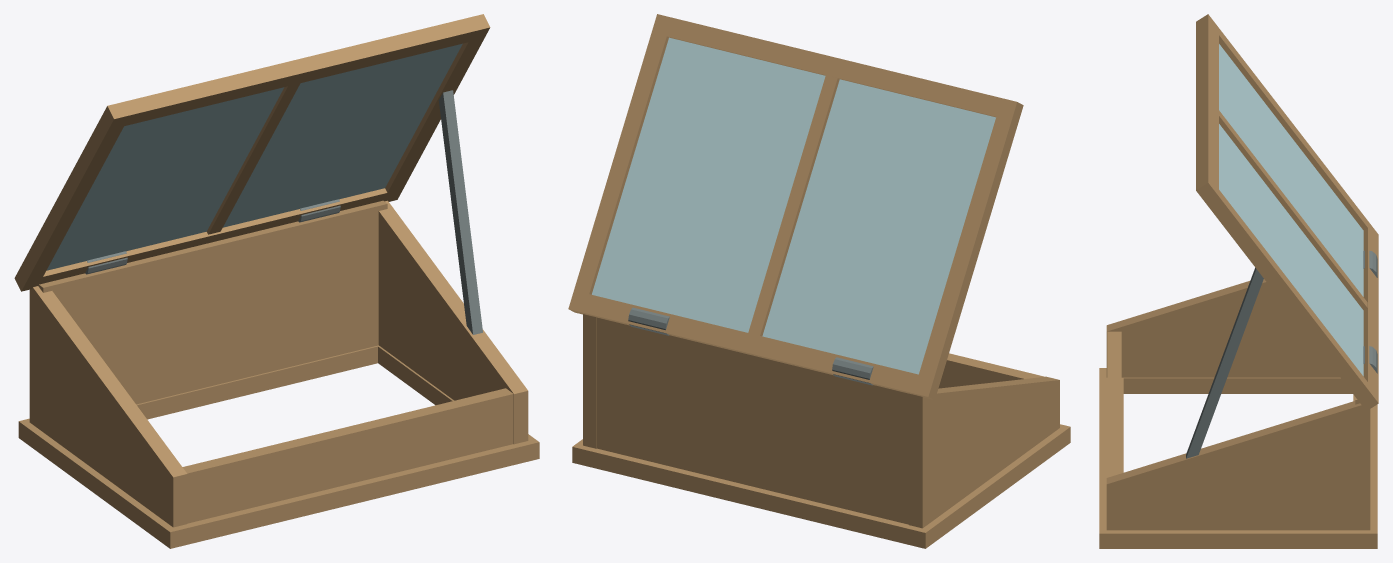
3 views of the same model, side by side, from view 1: azimuth 30°, elevation 25°; view 2: azimuth 150°, elevation 25°; view 3: azimuth 270°, elevation 25° (orthographic). The views are drawn at different scales.
Parts seen in each view (by area): view 1: RearWholeWall, WholeOpenCentreRaisedSashFrame, RightWholeOpaqueGlassLookPane, LeftWholeOpaqueGlassLookPane, FrontWholeWall, LeftWholeWedgeSide, WholeOpenCentreGroundFooting, RightWholeWedgeSide, WholeFixedSashStay, WholeSashCentreMullion; view 2: RightWholeOpaqueGlassLookPane, LeftWholeOpaqueGlassLookPane, RearWholeWall, WholeOpenCentreRaisedSashFrame, LeftWholeWedgeSide, WholeOpenCentreGroundFooting, WholeSashCentreMullion, FrontWholeWall, RightWholeWedgeSide, RightWholeFixedBarrelBracket, LeftWholeFixedBarrelBracket; view 3: RightWholeWedgeSide, LeftWholeWedgeSide, WholeOpenCentreRaisedSashFrame, WholeOpenCentreGroundFooting, LeftWholeOpaqueGlassLookPane, RightWholeOpaqueGlassLookPane, WholeFixedSashStay, FrontWholeWall, WholeSashCentreMullion.
Boxes of the visible parts, <box> form: RearWholeWall: <box>38,200,387,404</box>; WholeOpenCentreRaisedSashFrame: <box>14,14,490,291</box>; RightWholeOpaqueGlassLookPane: <box>223,43,462,227</box>; LeftWholeOpaqueGlassLookPane: <box>46,87,284,270</box>; FrontWholeWall: <box>182,388,513,523</box>; LeftWholeWedgeSide: <box>29,286,187,527</box>; WholeOpenCentreGroundFooting: <box>18,345,539,548</box>; RightWholeWedgeSide: <box>378,200,528,444</box>; WholeFixedSashStay: <box>438,90,482,334</box>; WholeSashCentreMullion: <box>206,83,300,234</box>; RightWholeOpaqueGlassLookPane: <box>592,37,825,332</box>; LeftWholeOpaqueGlassLookPane: <box>762,79,995,374</box>; RearWholeWall: <box>597,317,908,524</box>; WholeOpenCentreRaisedSashFrame: <box>568,14,1023,400</box>; LeftWholeWedgeSide: <box>909,376,1059,528</box>; WholeOpenCentreGroundFooting: <box>572,424,1070,548</box>; WholeSashCentreMullion: <box>748,75,839,336</box>; FrontWholeWall: <box>938,353,1044,388</box>; RightWholeWedgeSide: <box>583,314,596,448</box>; RightWholeFixedBarrelBracket: <box>628,307,669,335</box>; LeftWholeFixedBarrelBracket: <box>832,357,873,385</box>; RightWholeWedgeSide: <box>1106,401,1370,530</box>; LeftWholeWedgeSide: <box>1106,279,1339,377</box>; WholeOpenCentreRaisedSashFrame: <box>1196,14,1378,410</box>; WholeOpenCentreGroundFooting: <box>1099,368,1377,548</box>; LeftWholeOpaqueGlassLookPane: <box>1219,44,1363,296</box>; RightWholeOpaqueGlassLookPane: <box>1219,124,1363,376</box>; WholeFixedSashStay: <box>1186,267,1263,458</box>; FrontWholeWall: <box>1107,331,1121,477</box>; WholeSashCentreMullion: <box>1219,110,1367,310</box>.
Size of the model in its own units: 1.06 by 1.08 by 0.7427.
